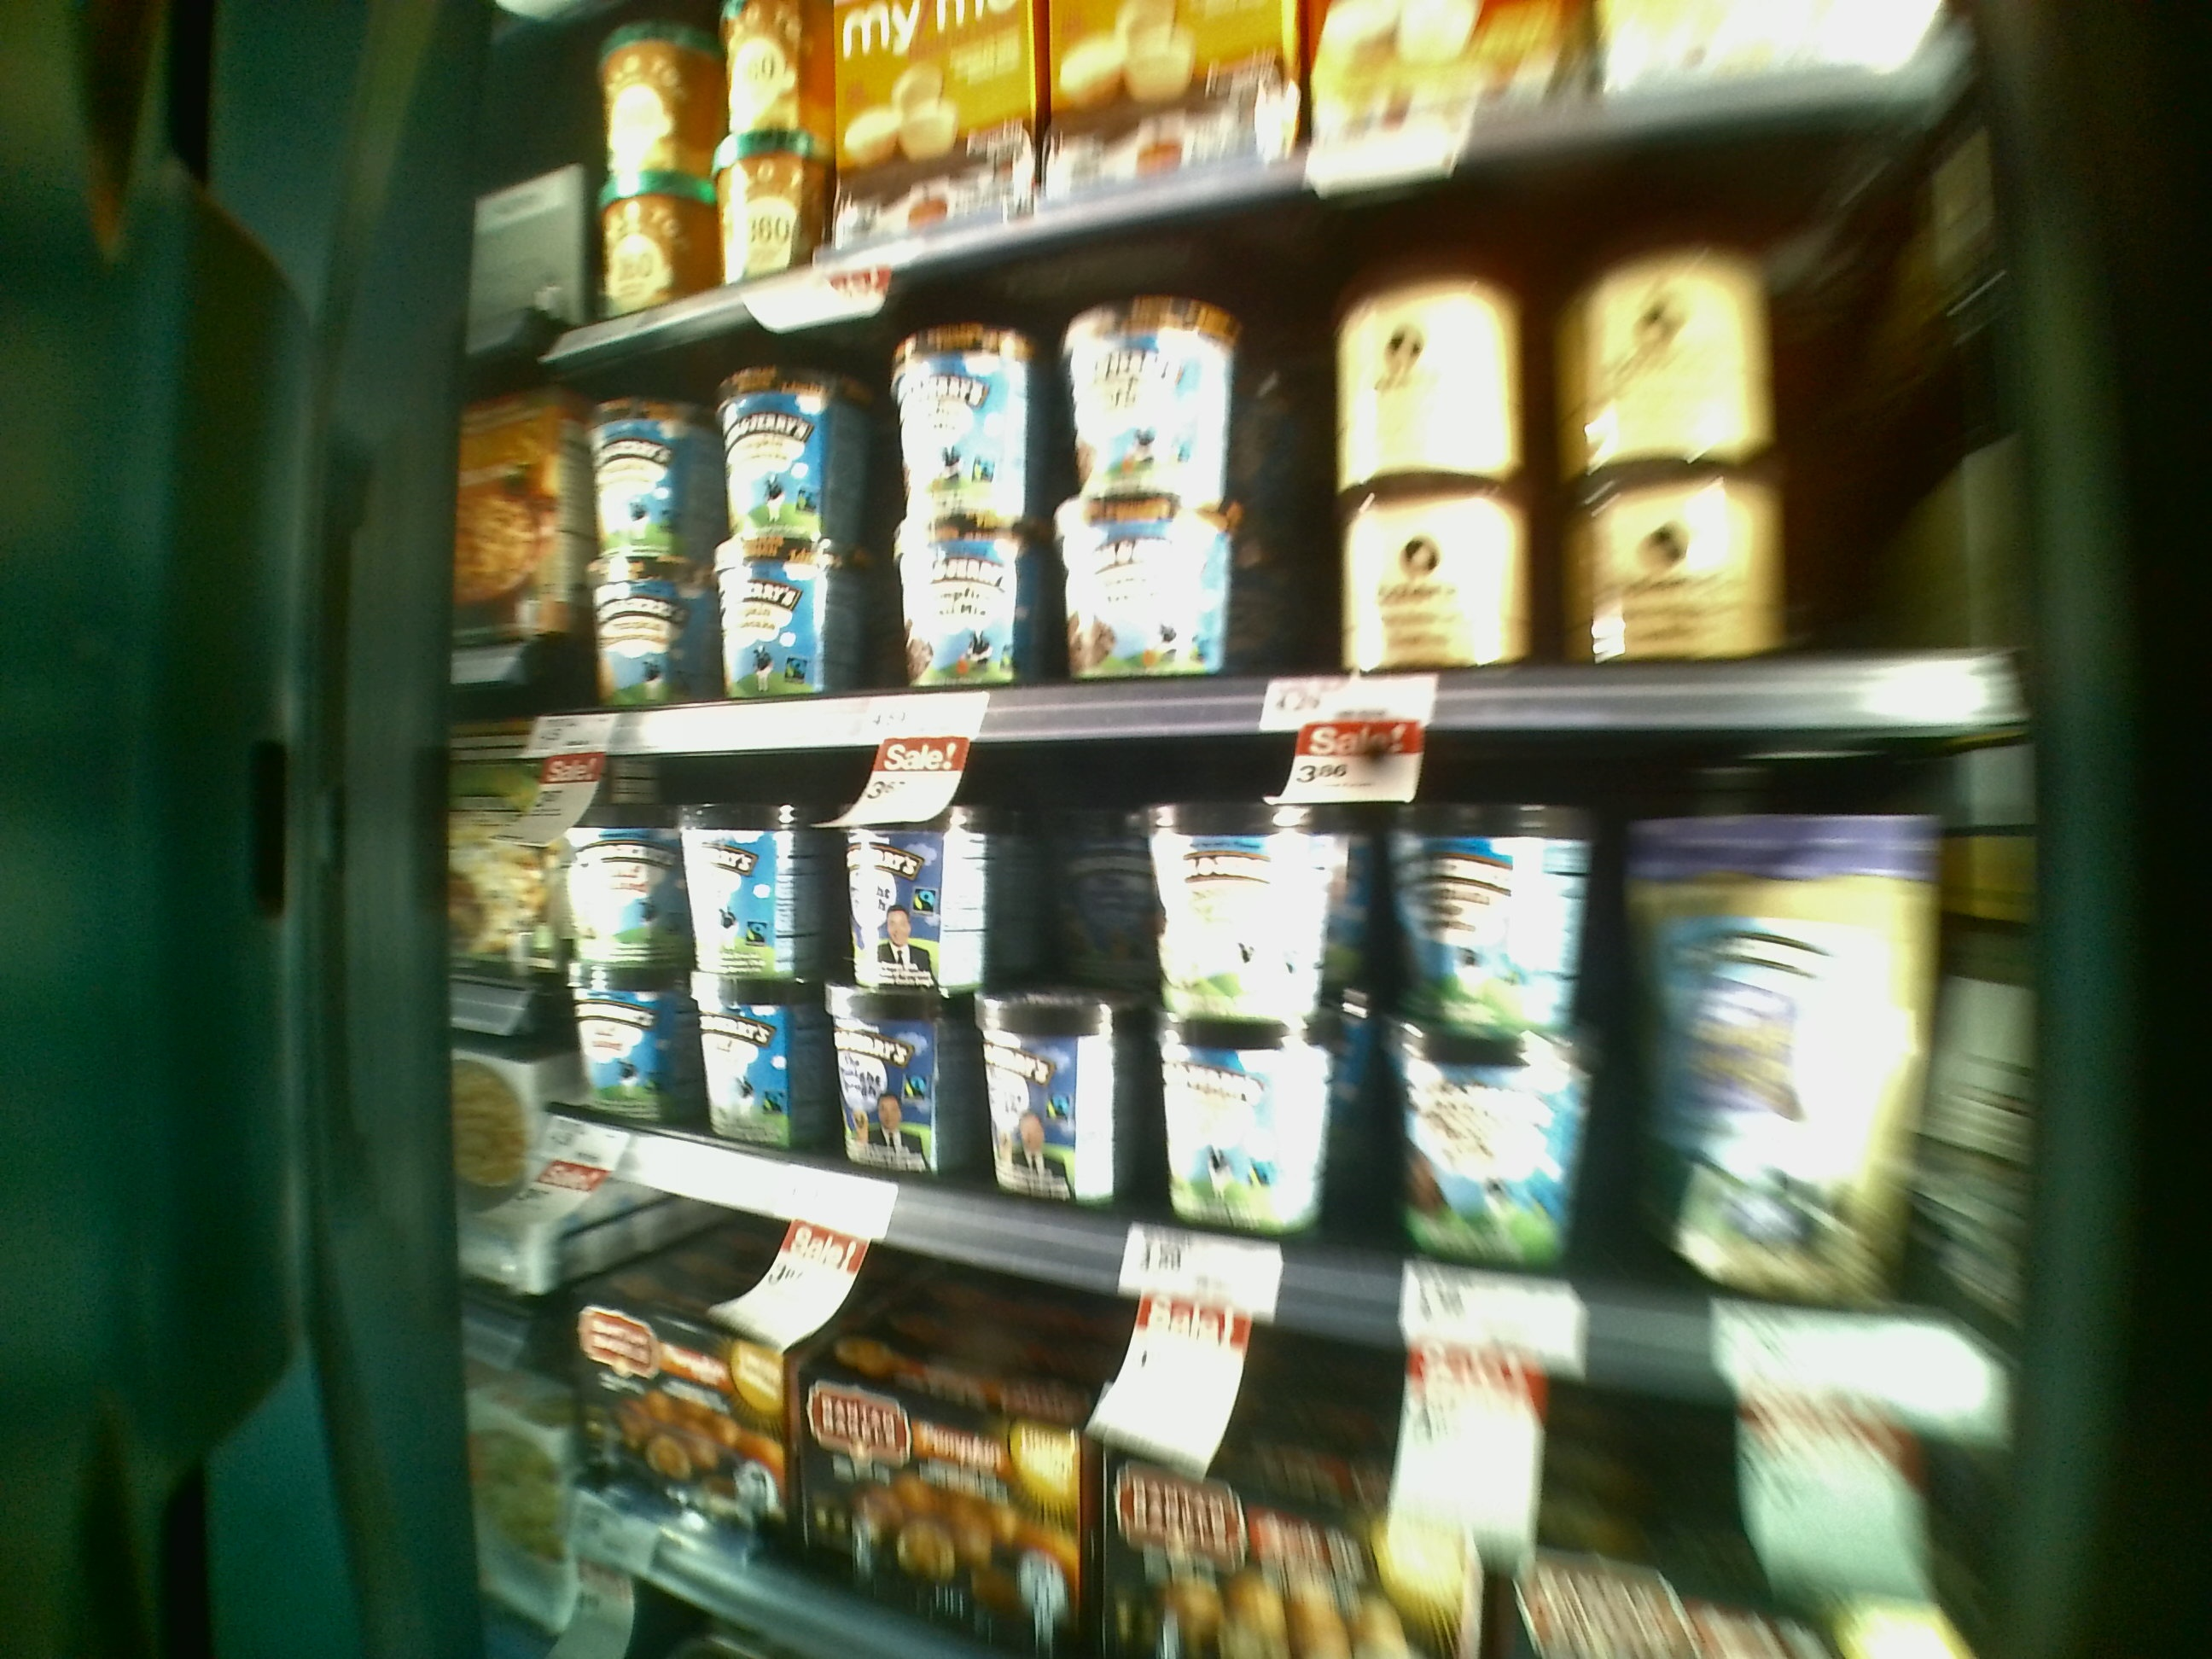shelf: (484, 708, 2005, 1389), (512, 253, 2020, 730)
